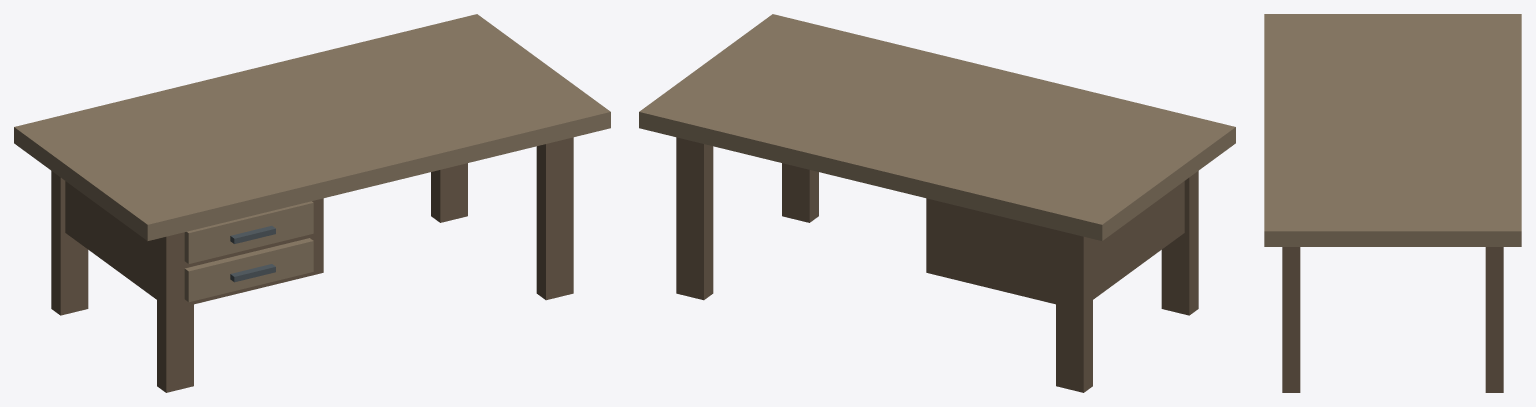
The model's file is desk.glb.
3 renders of one model, left to right at view 1: azimuth 30°, elevation 25°; view 2: azimuth 150°, elevation 25°; view 3: azimuth 270°, elevation 25°, orthographic. The views are drawn at different scales.
Visible parts, largest first — view 1: desk; view 2: desk; view 3: desk.
Part boxes in pixels (left/top/right/bottom): desk: left=14, top=14, right=610, bottom=392; desk: left=639, top=14, right=1235, bottom=392; desk: left=1264, top=14, right=1521, bottom=392.
Size of the model in its own units: 2 by 0.75 by 1.
